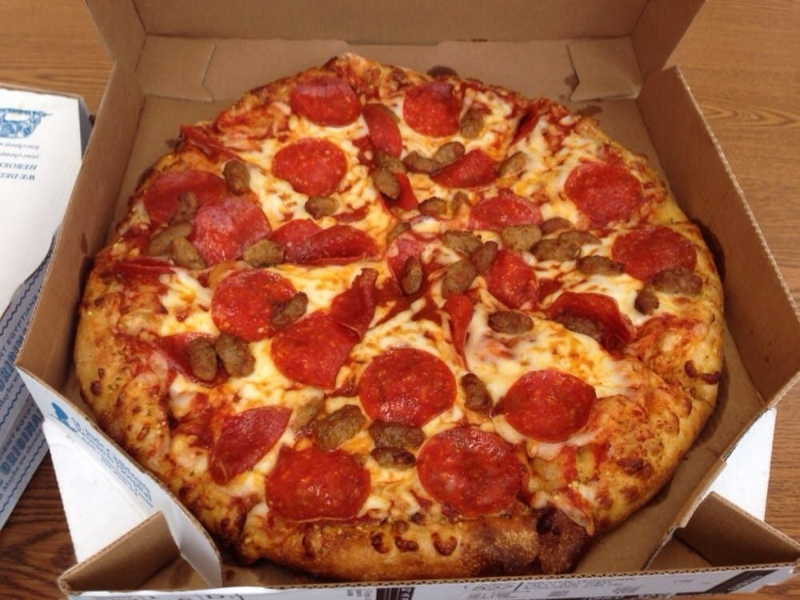pepperonis: (413, 423, 532, 523), (266, 441, 377, 529), (357, 341, 457, 419), (502, 363, 601, 439), (556, 156, 643, 224), (271, 128, 349, 194), (402, 81, 475, 139), (292, 75, 360, 127)
